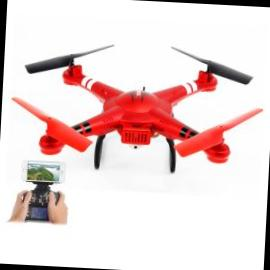drone: (0, 35, 266, 184)
